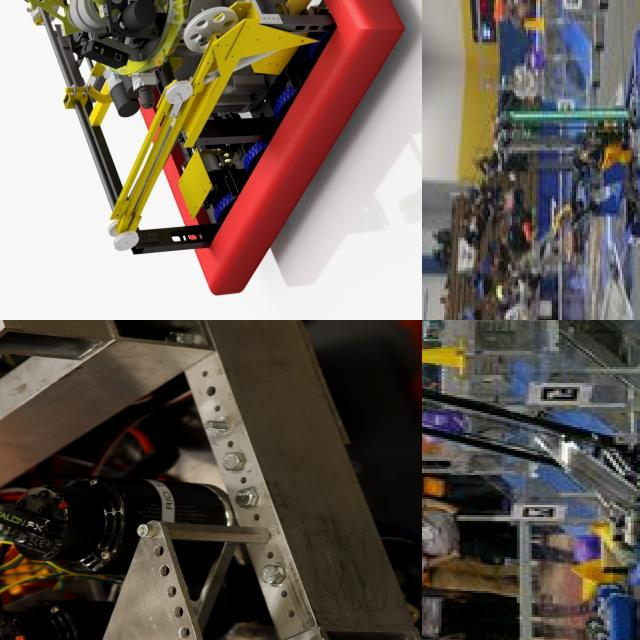FRC-Robots: (0, 320, 399, 640), (0, 0, 407, 309), (422, 320, 640, 571), (468, 11, 640, 263)
